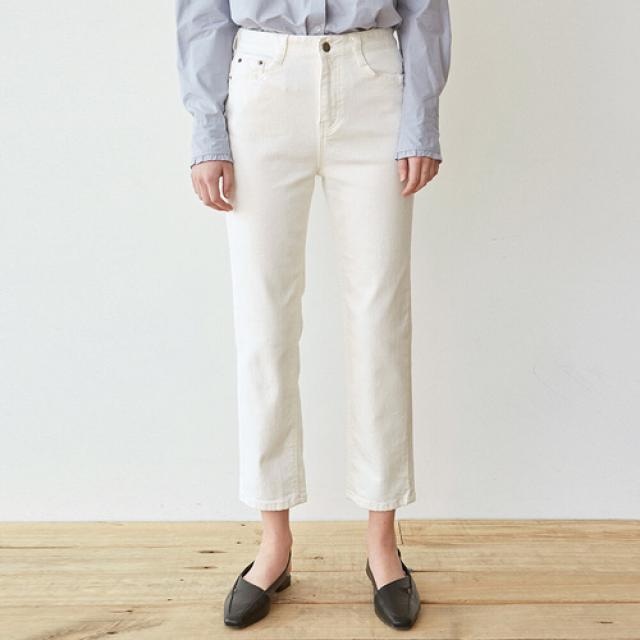Blouse_deep: (228, 26, 415, 503)
